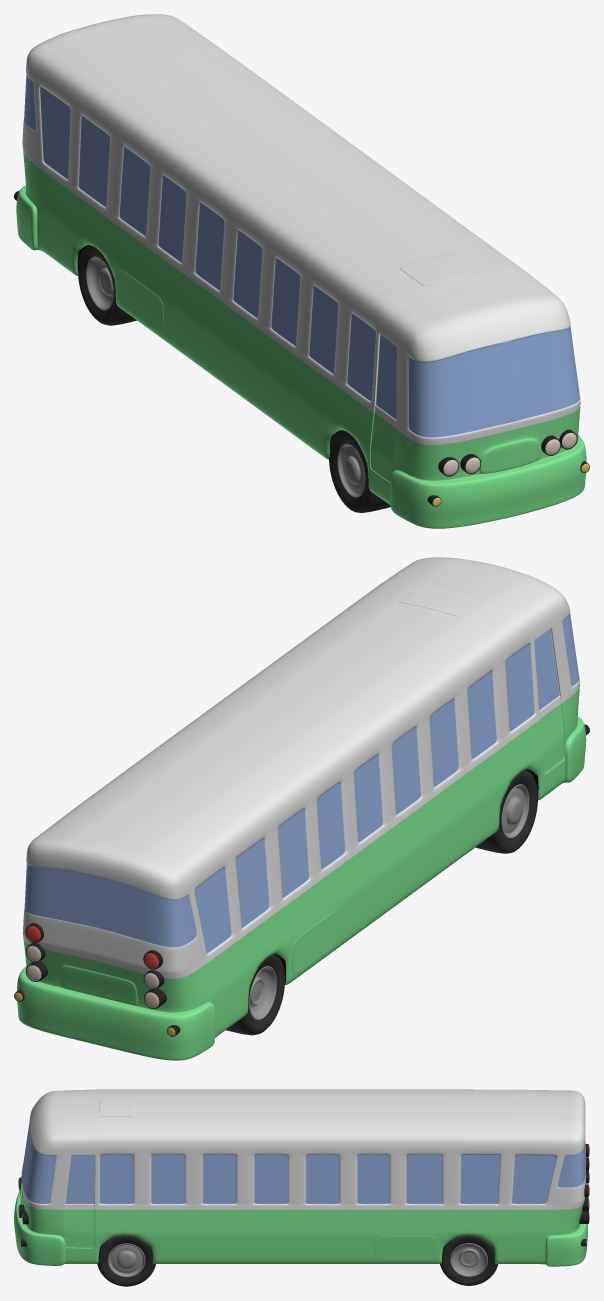
File: Buss_export.fbx
The picture shows the model from 3 angles, top to bottom: view 1: azimuth 30°, elevation 25°; view 2: azimuth 150°, elevation 25°; view 3: azimuth 270°, elevation 25°; orthographic projection. The views are drawn at different scales.
Visible parts, largest first — view 1: Buss2.001, Cylinder.005, Cylinder.004, Lyckta.001; view 2: Buss2.001, Cylinder.005, Cylinder.004, Lyckta.003; view 3: Buss2.001, Cylinder.005, Cylinder.004.
Boxes of the visible parts, box(x1,y1,x2,y2) form: Buss2.001: box(16, 14, 586, 528); Cylinder.005: box(329, 430, 390, 512); Cylinder.004: box(78, 245, 136, 325); Lyckta.001: box(460, 435, 560, 474); Buss2.001: box(16, 557, 586, 1060); Cylinder.005: box(475, 770, 537, 853); Cylinder.004: box(226, 955, 284, 1035); Lyckta.003: box(26, 961, 166, 1008); Buss2.001: box(14, 1089, 587, 1266); Cylinder.005: box(97, 1235, 155, 1286); Cylinder.004: box(440, 1235, 498, 1285).
Bounding box in the file's own units: 240 × 285 × 959.
